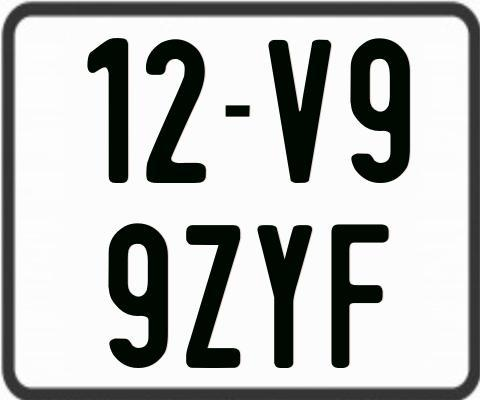1: (85, 35, 131, 181)
2: (145, 39, 211, 189)
9: (107, 221, 169, 372), (349, 38, 409, 186)
F: (328, 221, 387, 365)
V: (266, 38, 332, 186)
Y: (256, 223, 310, 369)
Z: (185, 223, 245, 372)
